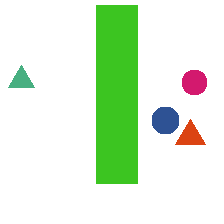circle: (152, 107, 178, 133), (182, 70, 206, 94)
rectangle: (96, 5, 137, 183)
triangle: (175, 119, 205, 144), (8, 65, 34, 87)
